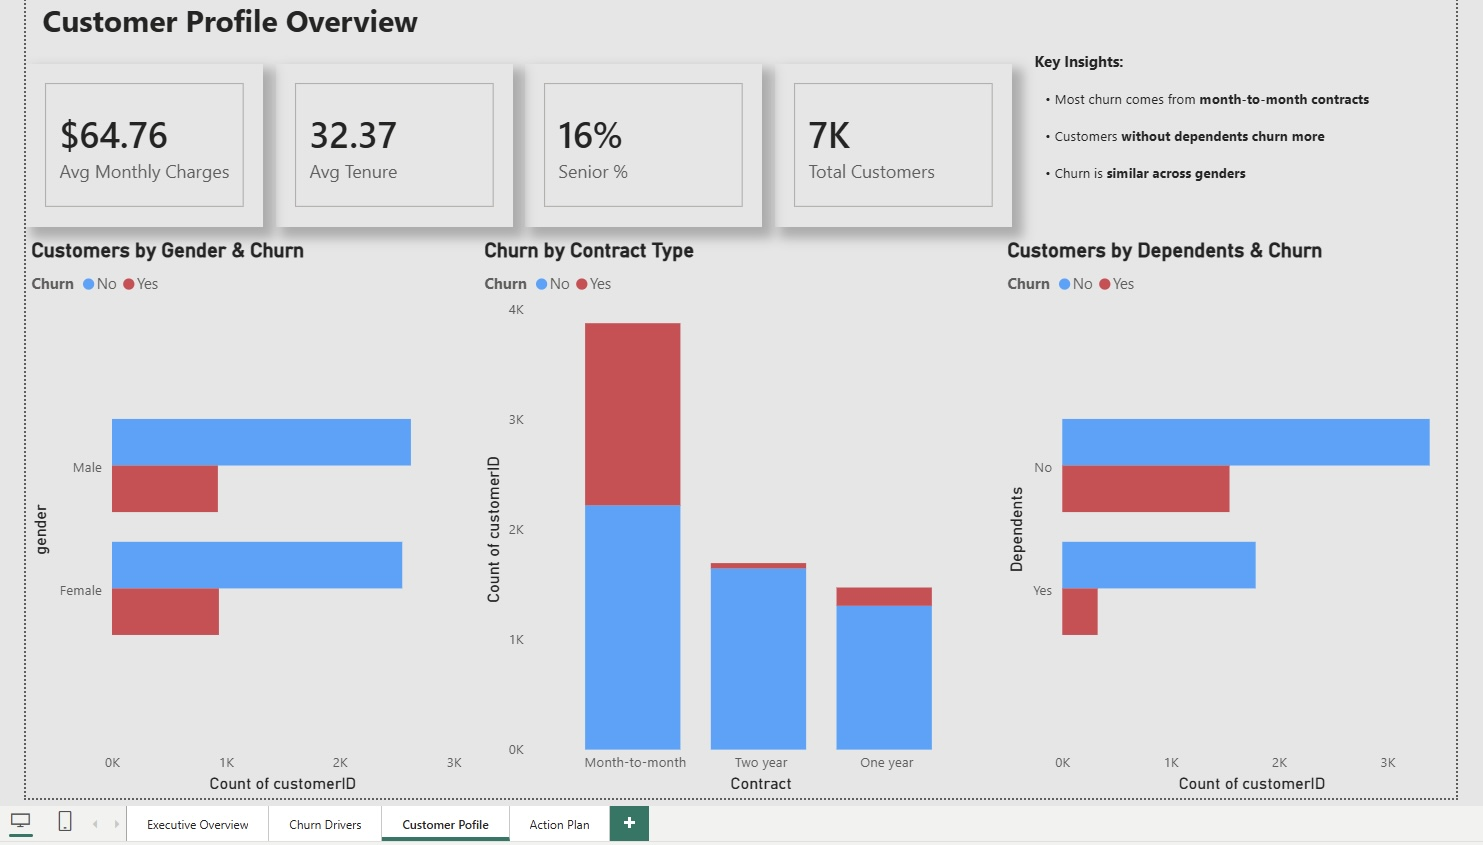

This screenshot's page, from the dashboard's own definition file:
{"tool":"powerbi","page":{"name":"Customer Pofile","canvas":[1280,720],"ordinal":2},"visuals":[{"type":"textbox","box":[9.9,0,355.5,46.6],"z":0},{"type":"cardVisual","fields":{"Data":["WA_Fn-UseC_-Telco-Customer-Churn.Avg Monthly Charges"]},"box":[0,62.7,212.2,146],"z":1},{"type":"cardVisual","fields":{"Data":["WA_Fn-UseC_-Telco-Customer-Churn.Avg Tenure"]},"box":[223.7,62.7,212,146],"z":2},{"type":"cardVisual","fields":{"Data":["WA_Fn-UseC_-Telco-Customer-Churn.Senior %"]},"box":[447.2,62.7,212,146],"z":3},{"type":"cardVisual","fields":{"Data":["WA_Fn-UseC_-Telco-Customer-Churn.Total Customers"]},"box":[670.7,62.7,212.2,146],"z":4},{"type":"clusteredBarChart","title":"Customers by Gender & Churn","fields":{"Y":["CountNonNull(WA_Fn-UseC_-Telco-Customer-Churn.customerID)"],"Category":["WA_Fn-UseC_-Telco-Customer-Churn.gender"],"Series":["WA_Fn-UseC_-Telco-Customer-Churn.Churn"]},"box":[0,218.5,394.9,501.5],"z":5},{"type":"clusteredBarChart","title":"Customers by Dependents & Churn","fields":{"Y":["CountNonNull(WA_Fn-UseC_-Telco-Customer-Churn.customerID)"],"Series":["WA_Fn-UseC_-Telco-Customer-Churn.Churn"],"Category":["WA_Fn-UseC_-Telco-Customer-Churn.Dependents"]},"box":[874,218.5,405.7,501.5],"z":6},{"type":"columnChart","title":"Churn by Contract Type","fields":{"Series":["WA_Fn-UseC_-Telco-Customer-Churn.Churn"],"Category":["WA_Fn-UseC_-Telco-Customer-Churn.Contract"],"Y":["CountNonNull(WA_Fn-UseC_-Telco-Customer-Churn.customerID)"]},"box":[405.7,218.5,460.3,501.5],"z":7},{"type":"textbox","box":[898.2,46.6,381.5,162.1],"z":8}]}

Visuals, with their boxes on the page's 1280x720 design canvas (x1, y1, x2, y2). These are canvas units, not pixel positions in the 1483x845 screenshot, which may show the page scaled, cropped or inside an application window:
textbox: crop(10, 0, 365, 47)
cardVisual - WA_Fn-UseC_-Telco-Customer-Churn.Avg Monthly Charges: crop(0, 63, 212, 209)
cardVisual - WA_Fn-UseC_-Telco-Customer-Churn.Avg Tenure: crop(224, 63, 436, 209)
cardVisual - WA_Fn-UseC_-Telco-Customer-Churn.Senior %: crop(447, 63, 659, 209)
cardVisual - WA_Fn-UseC_-Telco-Customer-Churn.Total Customers: crop(671, 63, 883, 209)
"Customers by Gender & Churn" clusteredBarChart: crop(0, 218, 395, 720)
"Customers by Dependents & Churn" clusteredBarChart: crop(874, 218, 1280, 720)
"Churn by Contract Type" columnChart: crop(406, 218, 866, 720)
textbox: crop(898, 47, 1280, 209)
